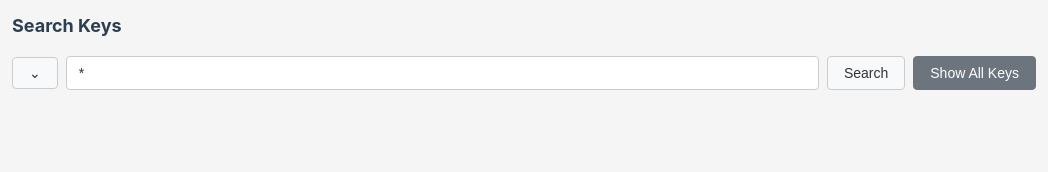
Test: KeysSearchSection - Search History › should close popup when clicking outside
Click the button titled "Search History" at (35, 73), box [12,57,58,89]
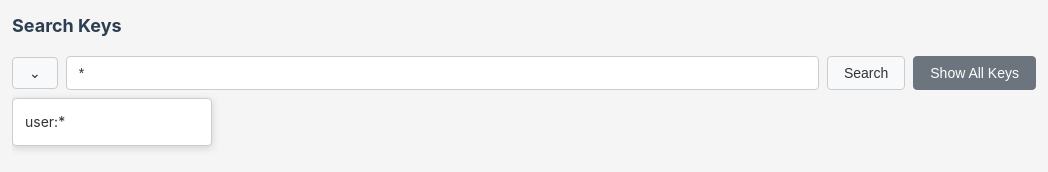
Result: the list item "user:*" is shown at [25,113,65,130]
Press the mouse on the element showing "Search Keys ⌄ user:* Search Show All Keys" at (524, 51), box [12,12,1036,90]
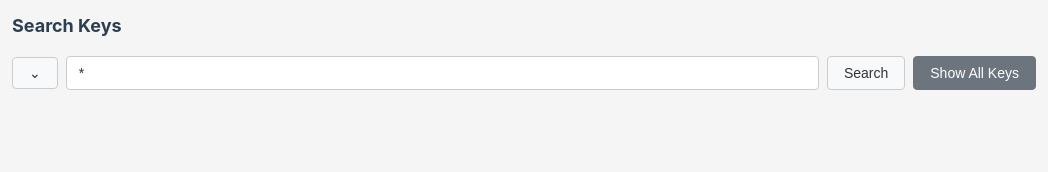
Result: the list item "user:*" is gone
